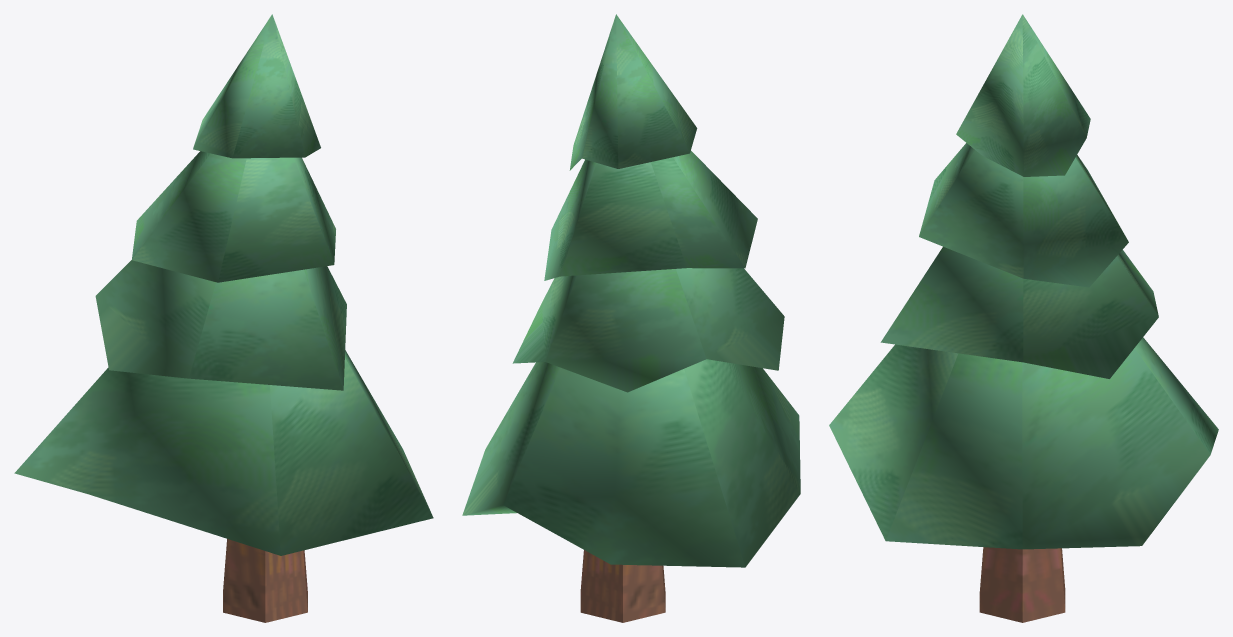
Rendered from tree2.fbx.
3 renders of one model, left to right at view 1: azimuth 30°, elevation 25°; view 2: azimuth 150°, elevation 25°; view 3: azimuth 270°, elevation 25°, orthographic.
Visible parts, largest first — view 1: tree2; view 2: tree2; view 3: tree2.
Part boxes in pixels (box(x1,y1,x2,y2)): tree2: box(14, 14, 433, 622); tree2: box(462, 14, 800, 622); tree2: box(829, 14, 1218, 622).
Bounding box in the file's own units: 234 × 404 × 241.
